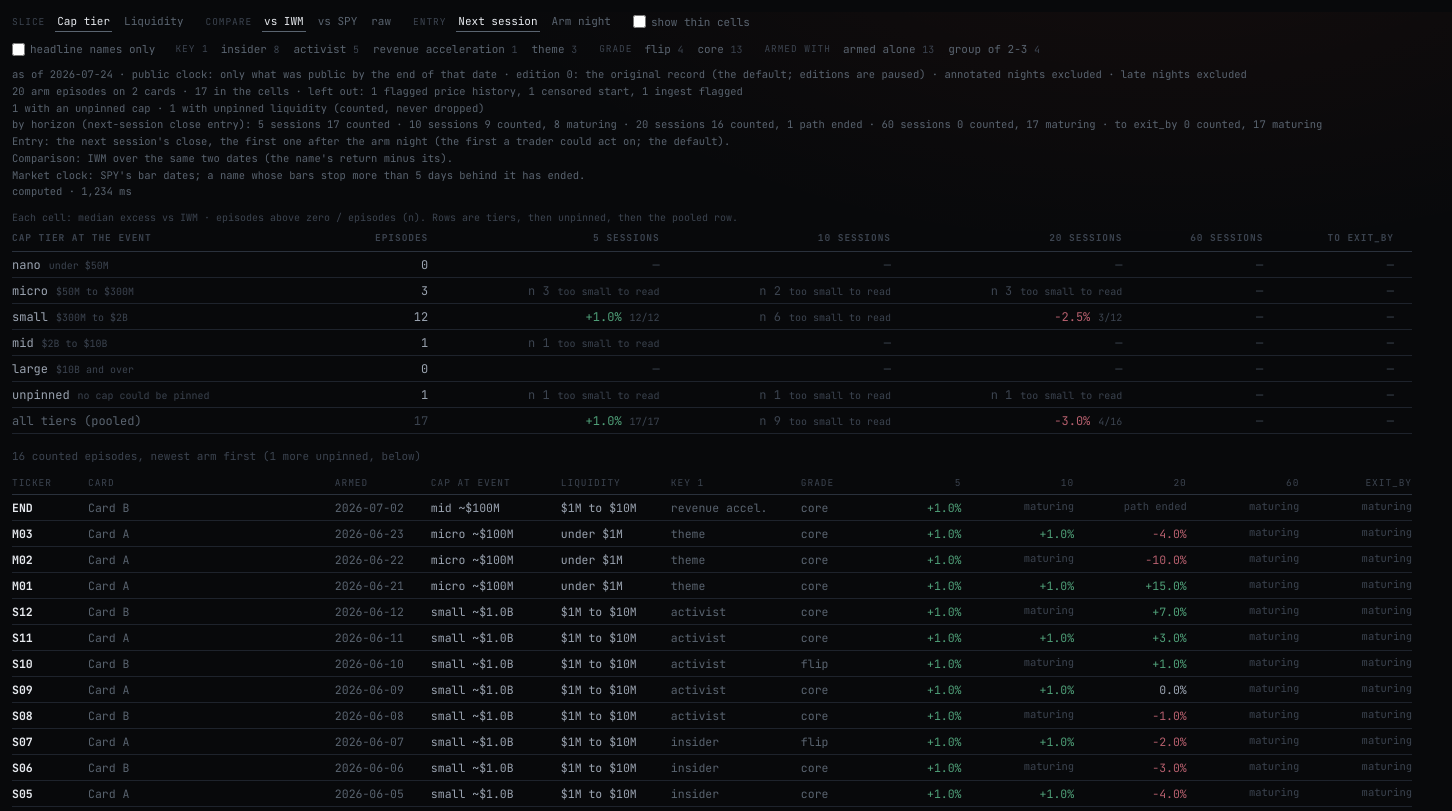
TrackRecord — the toggles re-table the page with no request › swaps the rows for the liquidity bands
Click the button "Liquidity" at coordinates (154, 22), box [122,12,186,32]
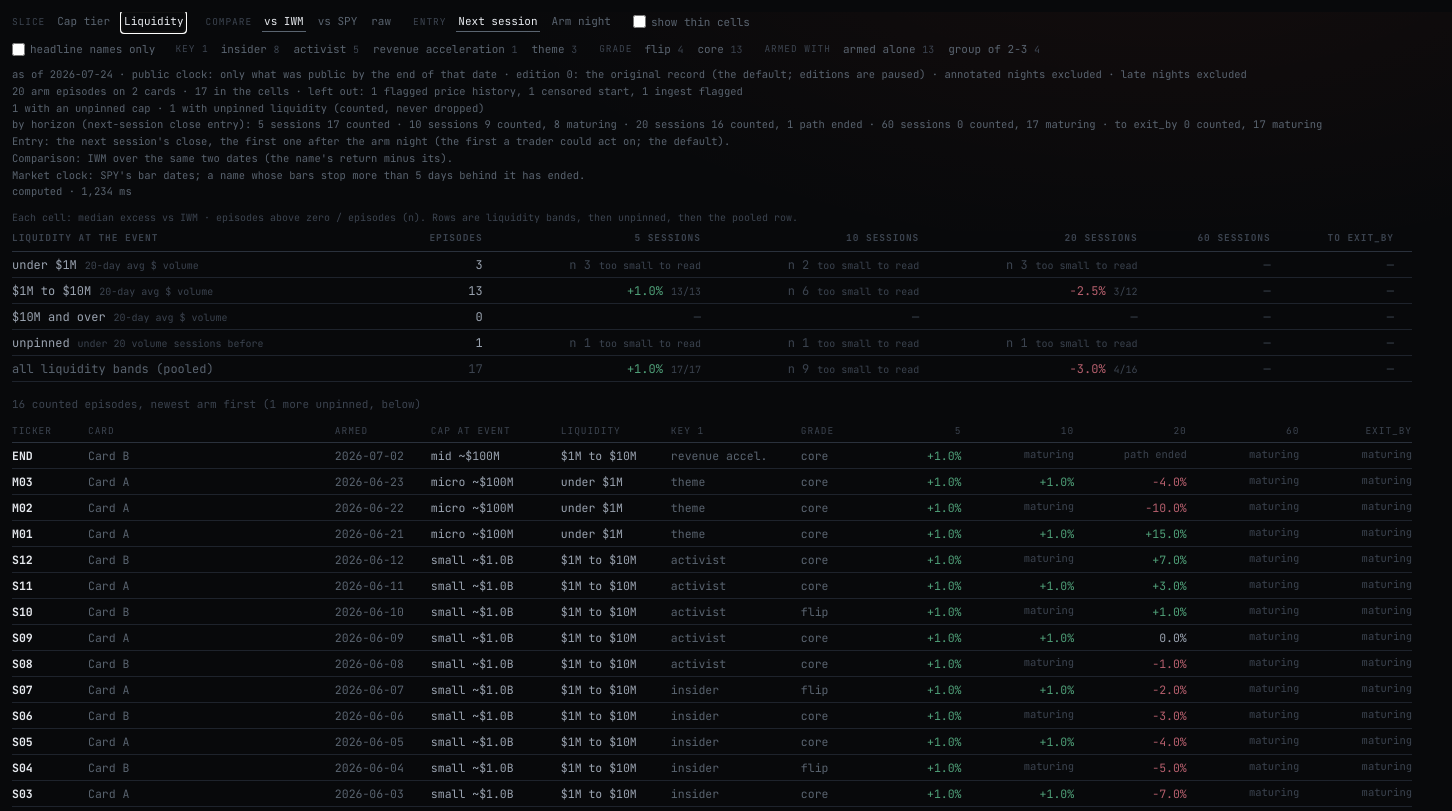
Expected: the column heading "Liquidity at the event" is shown, [12,231,397,252]
Expected: the column heading "all liquidity bands (pooled)" is shown, [12,356,397,382]
